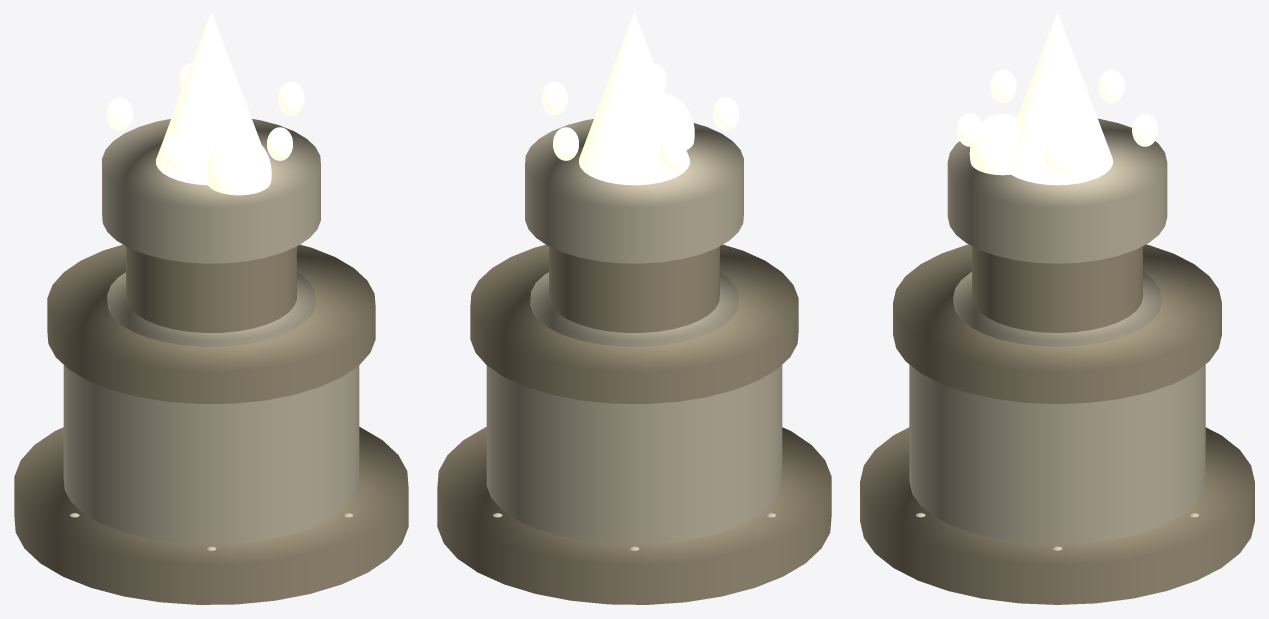
Rendered from fire_l5.glb.
3 views of the same model, side by side, from view 1: azimuth 30°, elevation 25°; view 2: azimuth 150°, elevation 25°; view 3: azimuth 270°, elevation 25° (orthographic).
Visible parts, largest first — view 1: base, footing, baseCollar, brazier, shaft, flameOuter, lowerTrim, ember, FireEmber0, FireEmber2, FireEmber3, FireEmber1; view 2: base, footing, baseCollar, brazier, shaft, flameOuter, lowerTrim, ember, FireEmber0, FireEmber2, FireEmber3, FireEmber4; view 3: base, footing, baseCollar, brazier, shaft, flameOuter, lowerTrim, ember, FireEmber2, FireEmber3, FireEmber0, FireEmber1 (+1 smaller).
Boxes of the visible parts, x1,y1,x2,y2 form: base: [63, 365, 359, 544]; footing: [14, 427, 408, 604]; baseCollar: [47, 244, 375, 403]; brazier: [102, 119, 320, 263]; shaft: [126, 246, 296, 332]; flameOuter: [156, 14, 261, 185]; lowerTrim: [107, 272, 315, 346]; ember: [206, 133, 271, 195]; FireEmber0: [278, 81, 304, 115]; FireEmber2: [161, 136, 186, 170]; FireEmber3: [106, 97, 132, 130]; FireEmber1: [267, 127, 292, 160]; base: [486, 365, 782, 544]; footing: [437, 427, 831, 604]; baseCollar: [470, 244, 798, 403]; brazier: [525, 119, 743, 263]; shaft: [549, 246, 719, 332]; flameOuter: [579, 14, 689, 185]; lowerTrim: [530, 272, 738, 346]; ember: [665, 93, 694, 149]; FireEmber0: [541, 81, 567, 115]; FireEmber2: [713, 97, 739, 130]; FireEmber3: [659, 136, 684, 170]; FireEmber4: [553, 127, 578, 160]; base: [909, 364, 1205, 544]; footing: [860, 427, 1254, 604]; baseCollar: [893, 244, 1221, 404]; brazier: [947, 118, 1167, 263]; shaft: [972, 246, 1142, 332]; flameOuter: [1011, 14, 1113, 185]; lowerTrim: [953, 272, 1161, 346]; ember: [969, 113, 1018, 175]; FireEmber2: [990, 69, 1016, 103]; FireEmber3: [1098, 69, 1124, 103]; FireEmber0: [1044, 140, 1070, 173]; FireEmber1: [956, 113, 982, 146].
Bounding box in the file's own units: 1.8 × 2.55 × 1.8.
